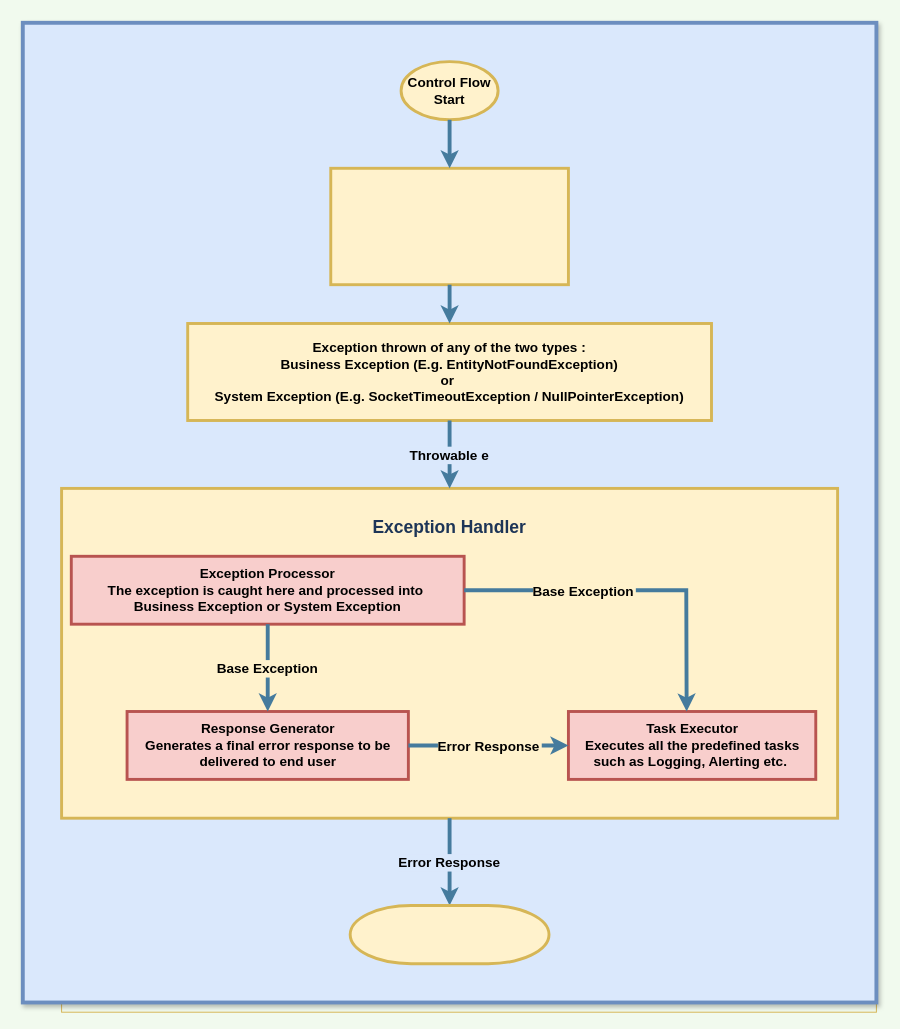
This 900x1029 diagram has some shape labels left out. The shapes that lost their labels are listed below. From the top down, each one's centre as x and y in pixels, then its label:
[449,226]: Code Processing / Downstream System Call / Database Query etc.
[449,934]: Final Response to the User
